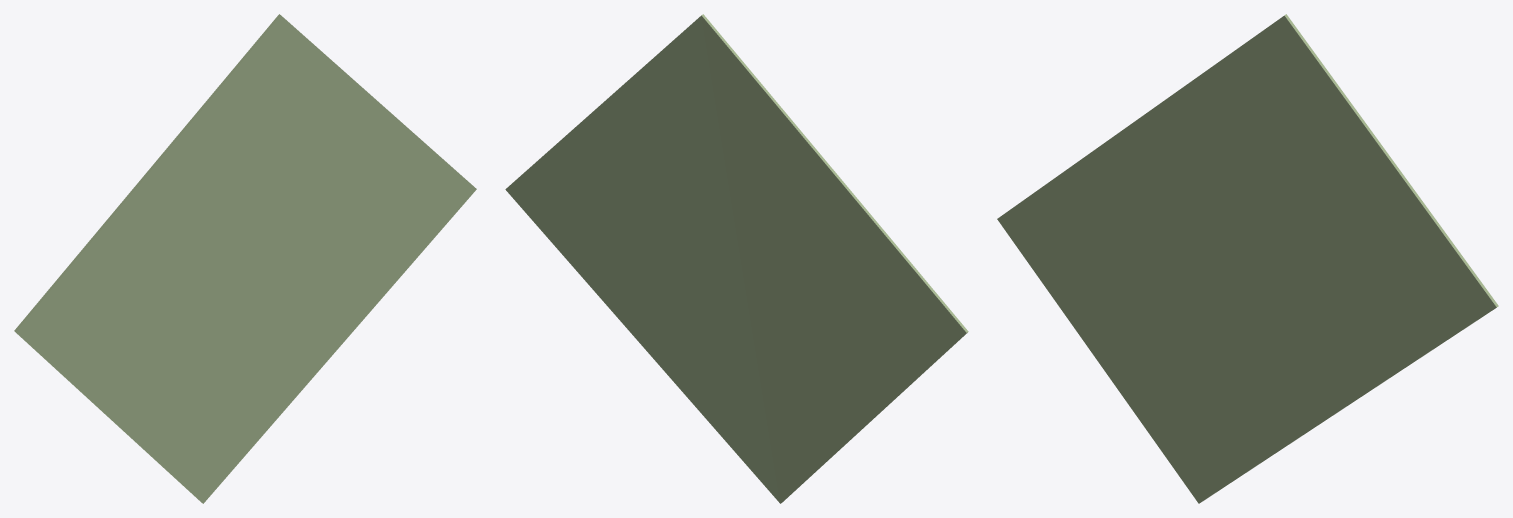
The picture shows the model from 3 angles, left to right: view 1: azimuth 30°, elevation 25°; view 2: azimuth 150°, elevation 25°; view 3: azimuth 330°, elevation 25°; orthographic projection. The views are drawn at different scales.
Visible parts, largest first — view 1: urn:npust:smart-agriculture-management-platform:face:field-e; view 2: urn:npust:smart-agriculture-management-platform:face:field-e; view 3: urn:npust:smart-agriculture-management-platform:face:field-e.
Boxes of the visible parts, bbox=[...] form: urn:npust:smart-agriculture-management-platform:face:field-e: bbox=[14, 14, 476, 503]; urn:npust:smart-agriculture-management-platform:face:field-e: bbox=[505, 14, 968, 503]; urn:npust:smart-agriculture-management-platform:face:field-e: bbox=[997, 14, 1498, 503].
Size of the model in its own units: 34.95 by 33.99 by 0.341.
